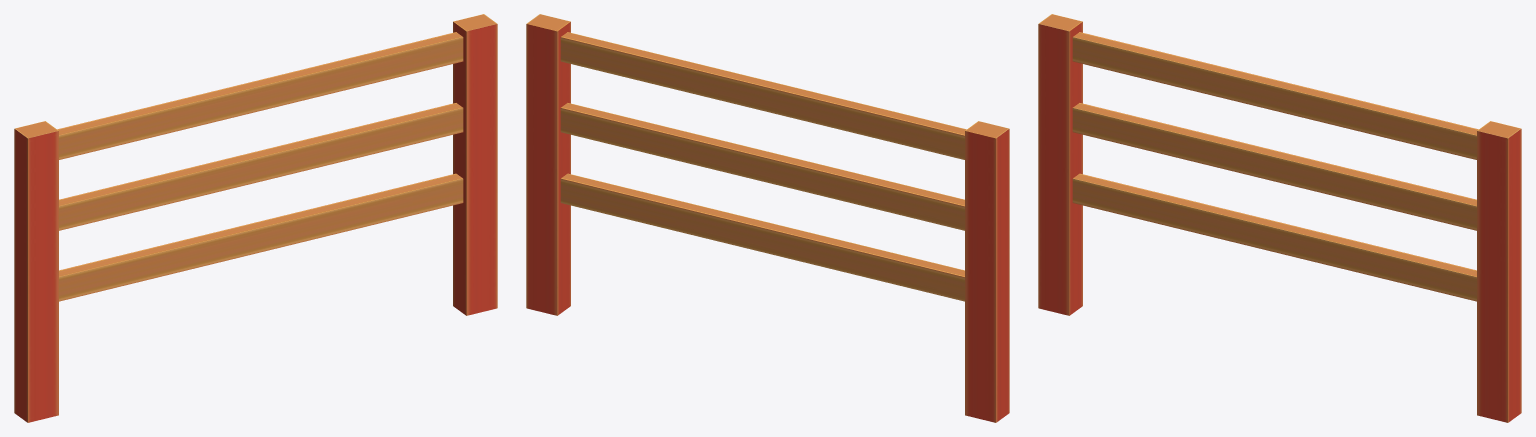
File: fence.glb
The picture shows the model from 3 angles, left to right: view 1: azimuth 30°, elevation 25°; view 2: azimuth 150°, elevation 25°; view 3: azimuth 330°, elevation 25°; orthographic projection.
Parts seen in each view (by area): view 1: Fence.001; view 2: Fence.001; view 3: Fence.001.
Part boxes in pixels (bbox=[...]): Fence.001: bbox=[14, 14, 497, 422]; Fence.001: bbox=[526, 14, 1009, 422]; Fence.001: bbox=[1038, 14, 1521, 422].
Size of the model in its own units: 1.51 by 0.8748 by 0.075.
1 material, 1 textured.
